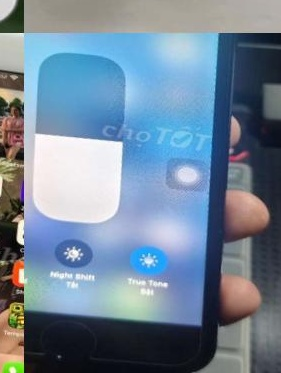scratch: (45, 348, 74, 363)
